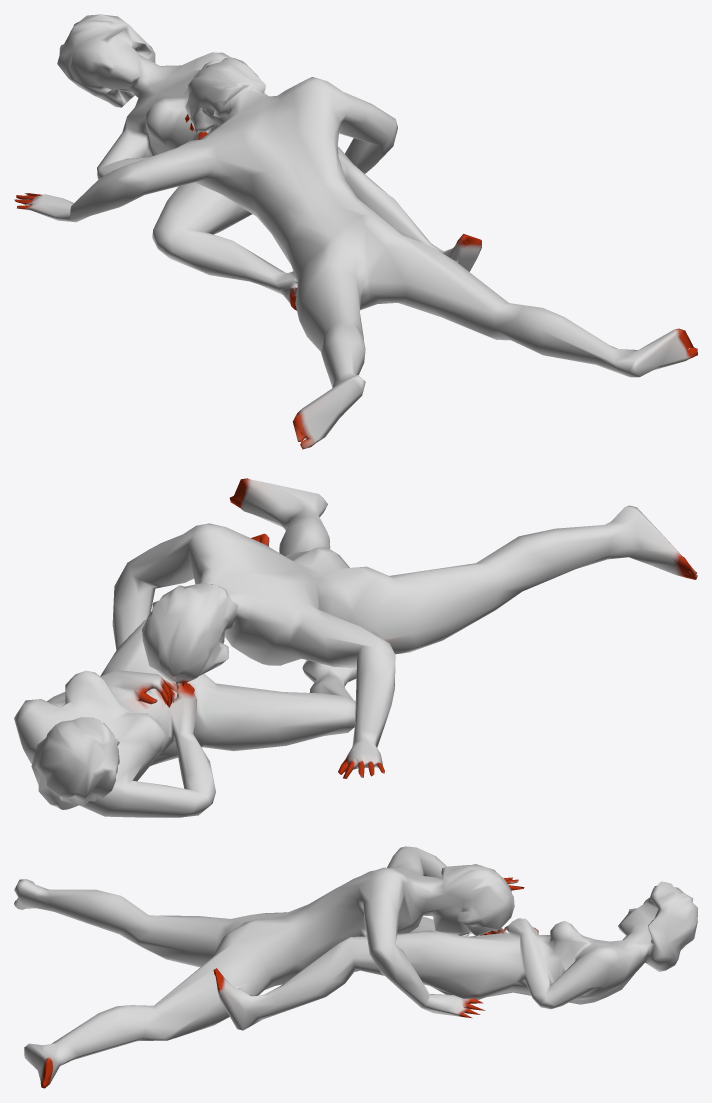
Rendered from position3_low.fbx.
3 views of the same model, one above another, from view 1: azimuth 30°, elevation 25°; view 2: azimuth 150°, elevation 25°; view 3: azimuth 270°, elevation 25° (orthographic). The views are drawn at different scales.
Visible parts, largest first — view 1: lying_female_1; view 2: lying_female_1; view 3: lying_female_1.
Part boxes in pixels (x1,y1,x2,y2): lying_female_1: (14, 14, 697, 449); lying_female_1: (14, 478, 697, 817); lying_female_1: (14, 846, 697, 1088).
Size of the model in its own units: 0.5479 by 0.2228 by 0.9242.
